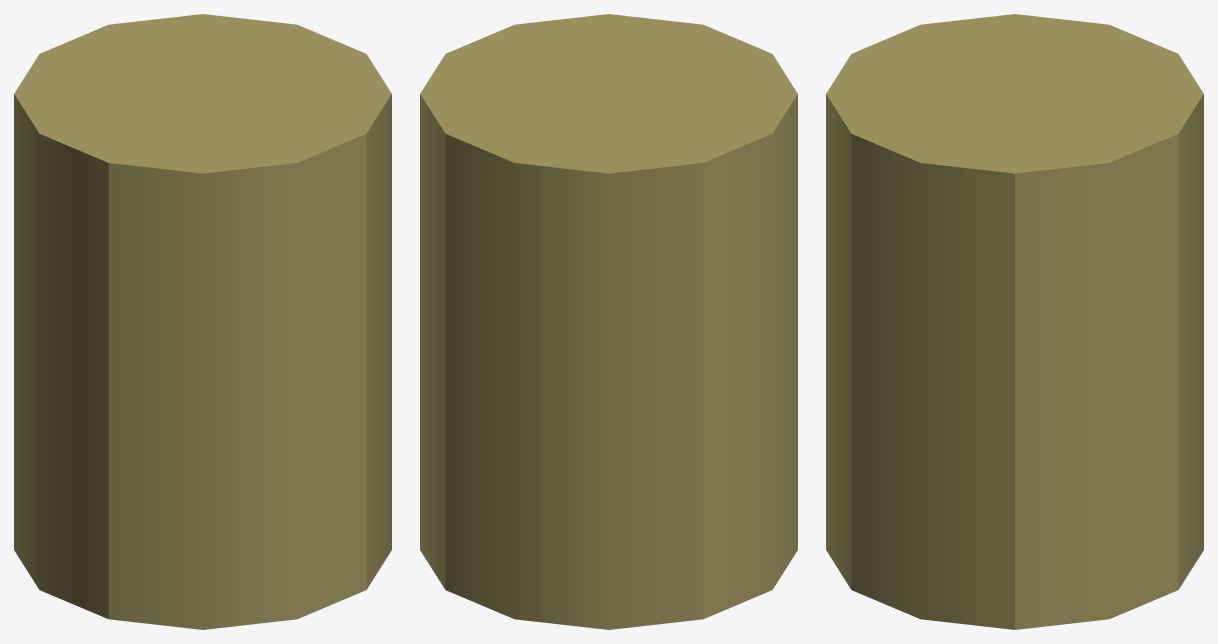
File: SM_Valve_Hyd_1.fbx
3 renders of one model, left to right at view 1: azimuth 30°, elevation 25°; view 2: azimuth 150°, elevation 25°; view 3: azimuth 270°, elevation 25°, orthographic.
Parts seen in each view (by area): view 1: SM_Valve_Hyd_1; view 2: SM_Valve_Hyd_1; view 3: SM_Valve_Hyd_1.
Boxes of the visible parts, x1,y1,x2,y2 form: SM_Valve_Hyd_1: (14, 14, 391, 629); SM_Valve_Hyd_1: (420, 14, 797, 629); SM_Valve_Hyd_1: (826, 14, 1203, 629).
Bounding box in the file's own units: 15 × 15 × 20.
